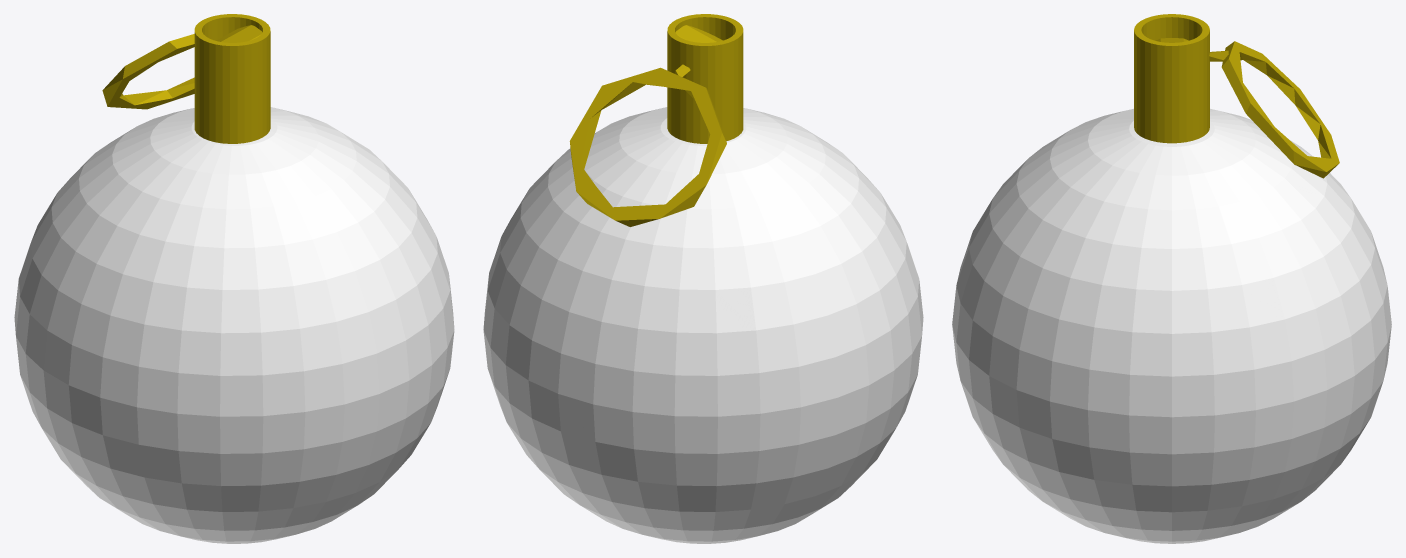
File: Gamblers Grenade.glb
3 renders of one model, left to right at view 1: azimuth 30°, elevation 25°; view 2: azimuth 150°, elevation 25°; view 3: azimuth 270°, elevation 25°, orthographic.
Parts seen in each view (by area): view 1: Sphere, Pin; view 2: Sphere, Pin; view 3: Sphere, Pin.
Boxes of the visible parts, x1,y1,x2,y2 form: Sphere: (14,14,454,543); Pin: (102,25,262,109); Sphere: (483,14,923,543); Pin: (569,25,726,226); Sphere: (952,14,1391,543); Pin: (1156,38,1339,178).
Size of the model in its own units: 0.1164 by 0.1439 by 0.1164.
